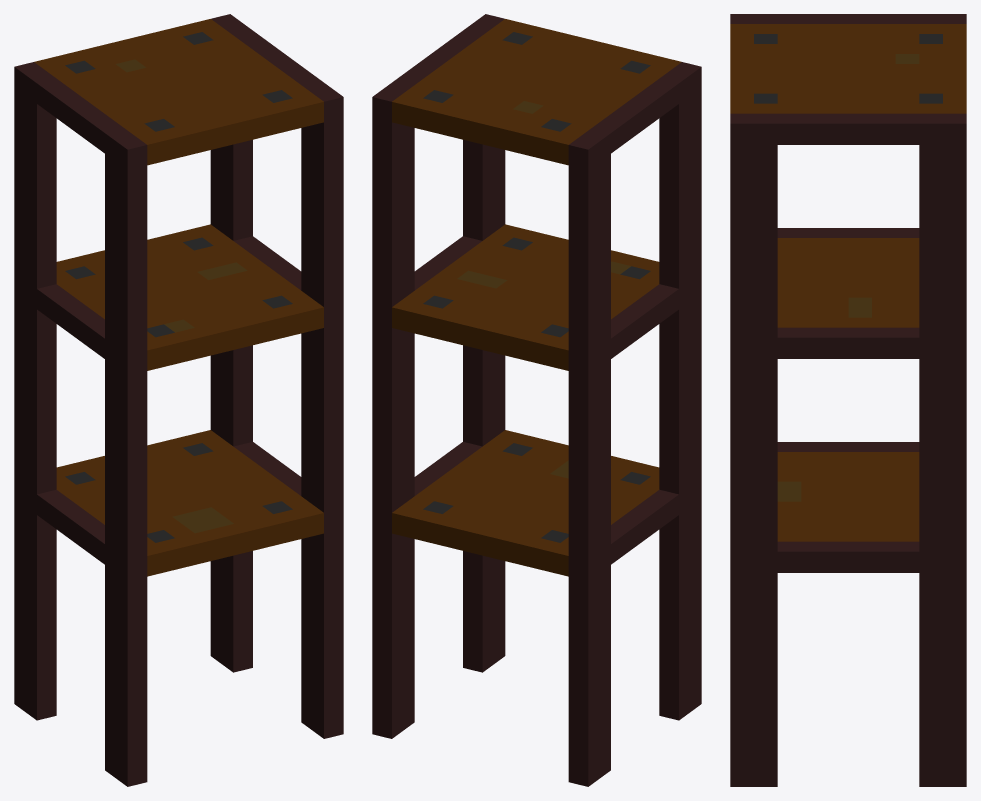
Rendered from SmallShelf.obj.
3 renders of one model, left to right at view 1: azimuth 30°, elevation 25°; view 2: azimuth 150°, elevation 25°; view 3: azimuth 270°, elevation 25°, orthographic. The views are drawn at different scales.
Bounding box in the file's own units: 1.1 × 3.1 × 1.
1 material, 1 textured.
